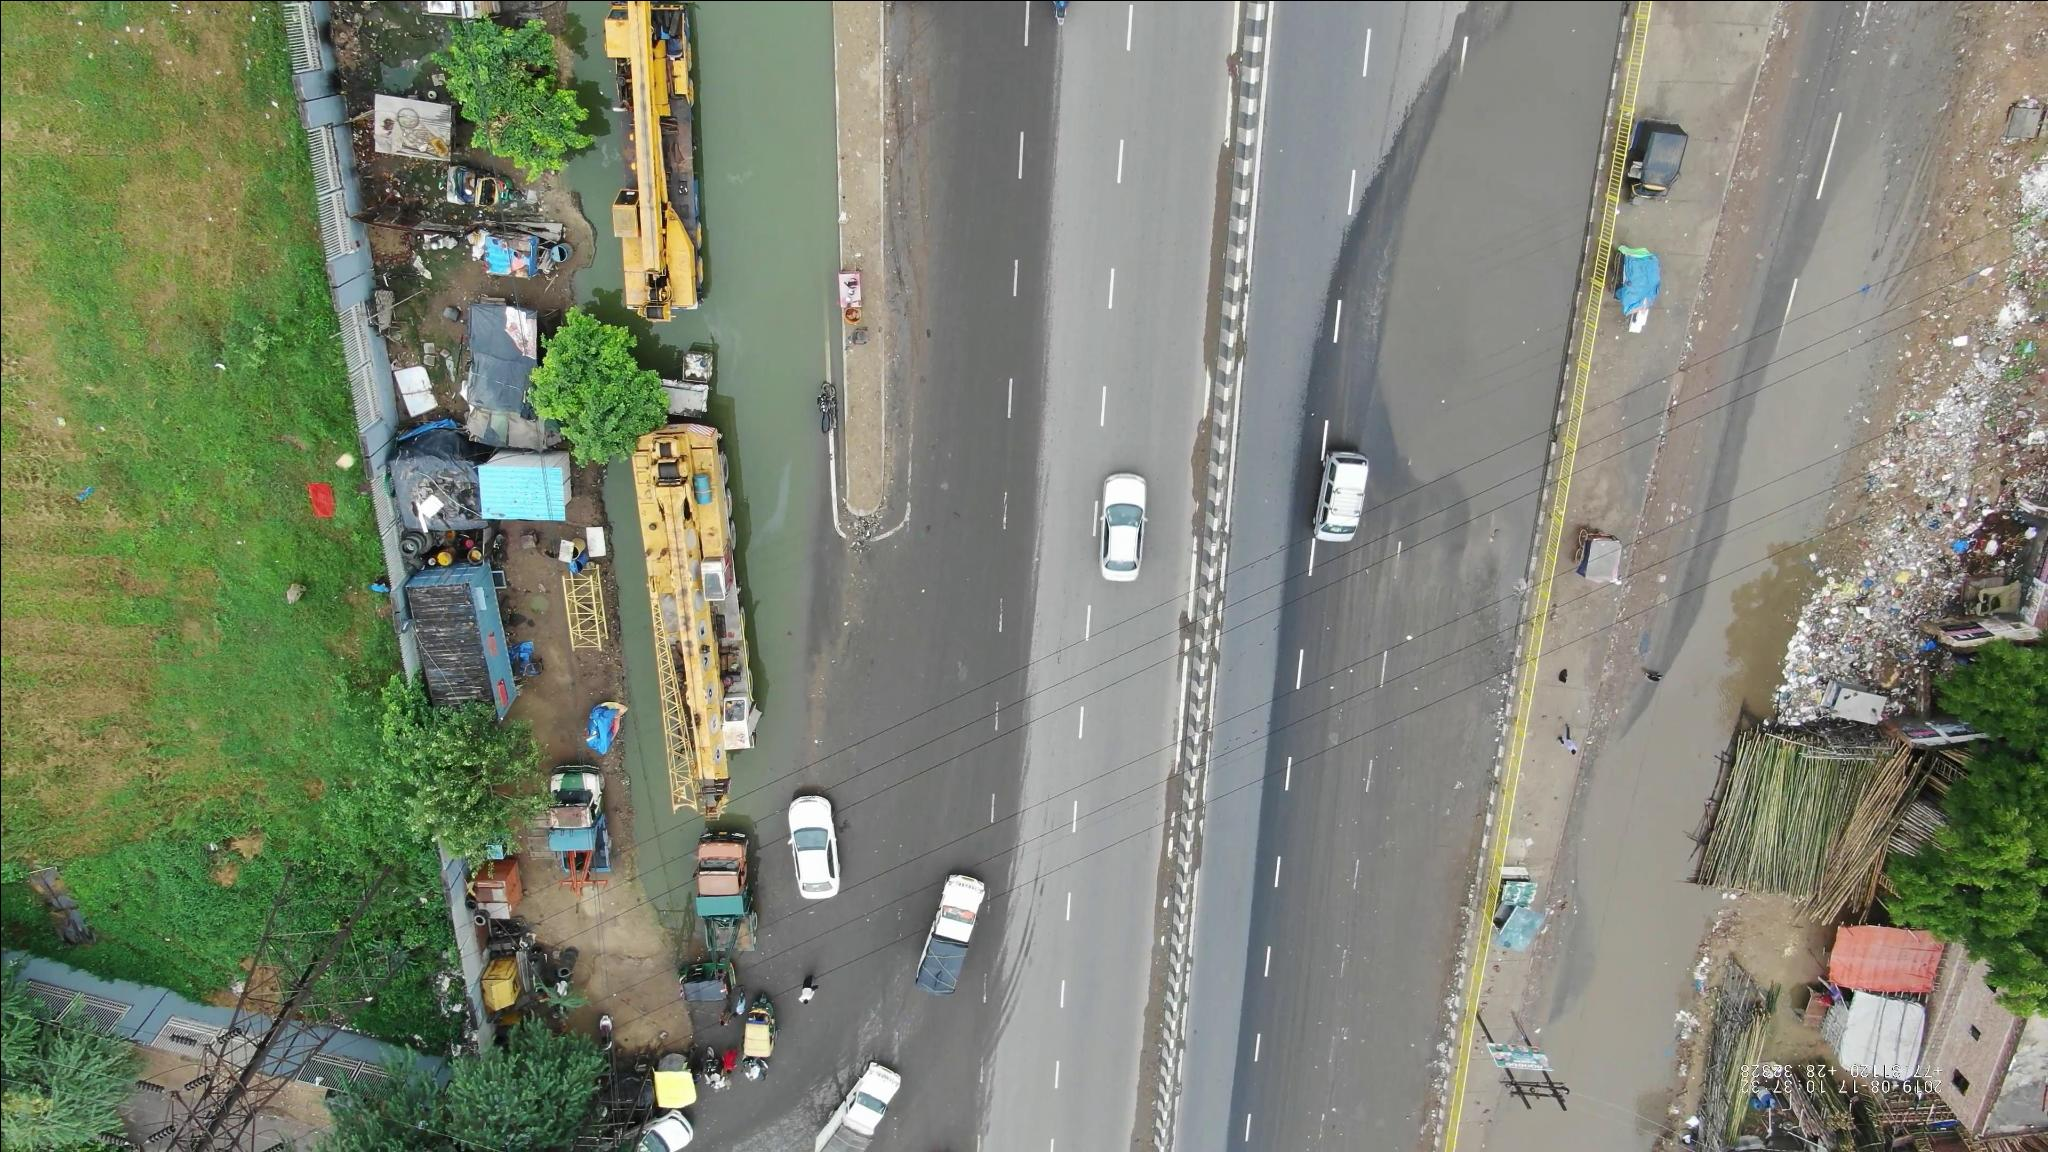Muddy_road: (1321, 850, 1463, 1061), (1398, 587, 1532, 789)
Waterlogging: (592, 37, 828, 796), (1333, 32, 1611, 554), (1582, 564, 1784, 941), (1740, 212, 1923, 551)
